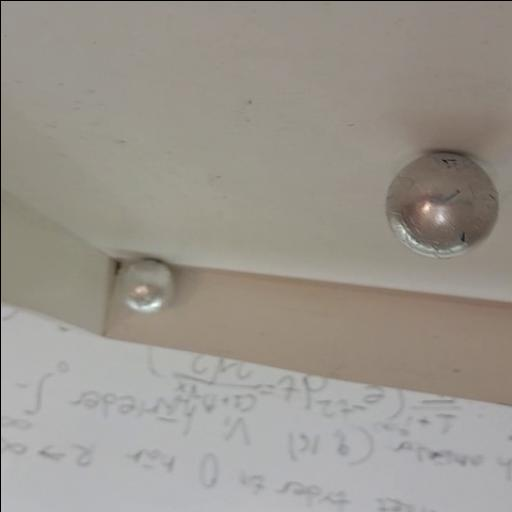alive: (380, 148, 502, 260), (118, 258, 174, 314)
